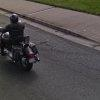Motorcycle: (0, 14, 41, 77)
